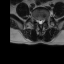CCS_stenosis: (39, 17, 41, 26)
LFS_normal: (43, 16, 46, 23)
LLS_normal: (41, 17, 43, 25)
RFS_normal: (34, 16, 37, 23)
RLS_normal: (37, 17, 39, 24)
